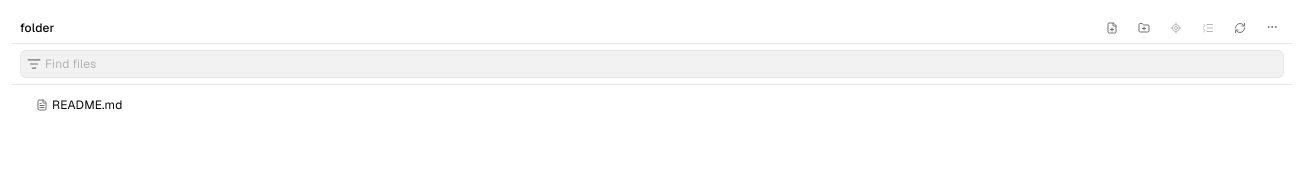
Test: create › shows the created row after the parent reload
The width and height of the screenshot is (1304, 172).
Click the button named "New File".
click(1112, 28)  # box [1100,16,1124,40]
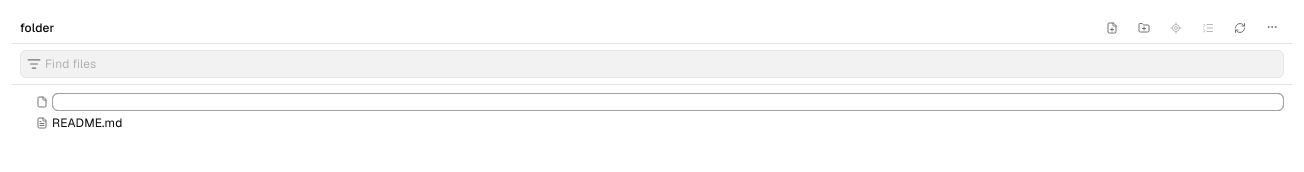
Result: the field named "New file name" is empty
Type "fresh.txt" into the field named "New file name".
click(668, 102); type("fresh.txt")  # box [52,93,1284,111]
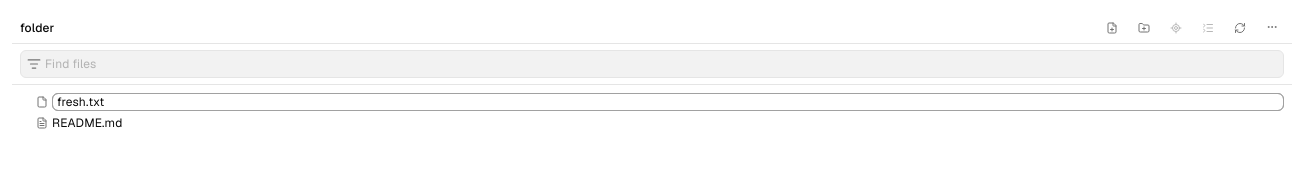
Press Enter in the field named "New file name", box [52,93,1284,111]
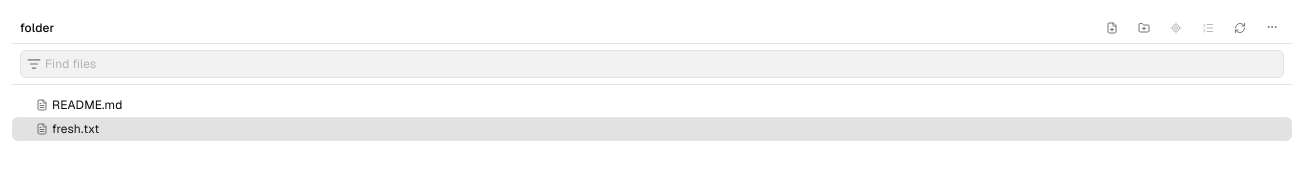
Result: the button "fresh.txt" is shown at [12,117,1292,141]
